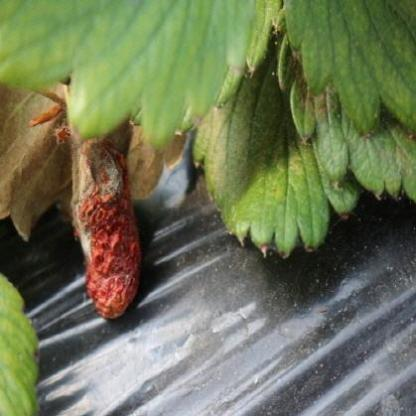Strawberry_Gray_Mold: (54, 125, 140, 320)
